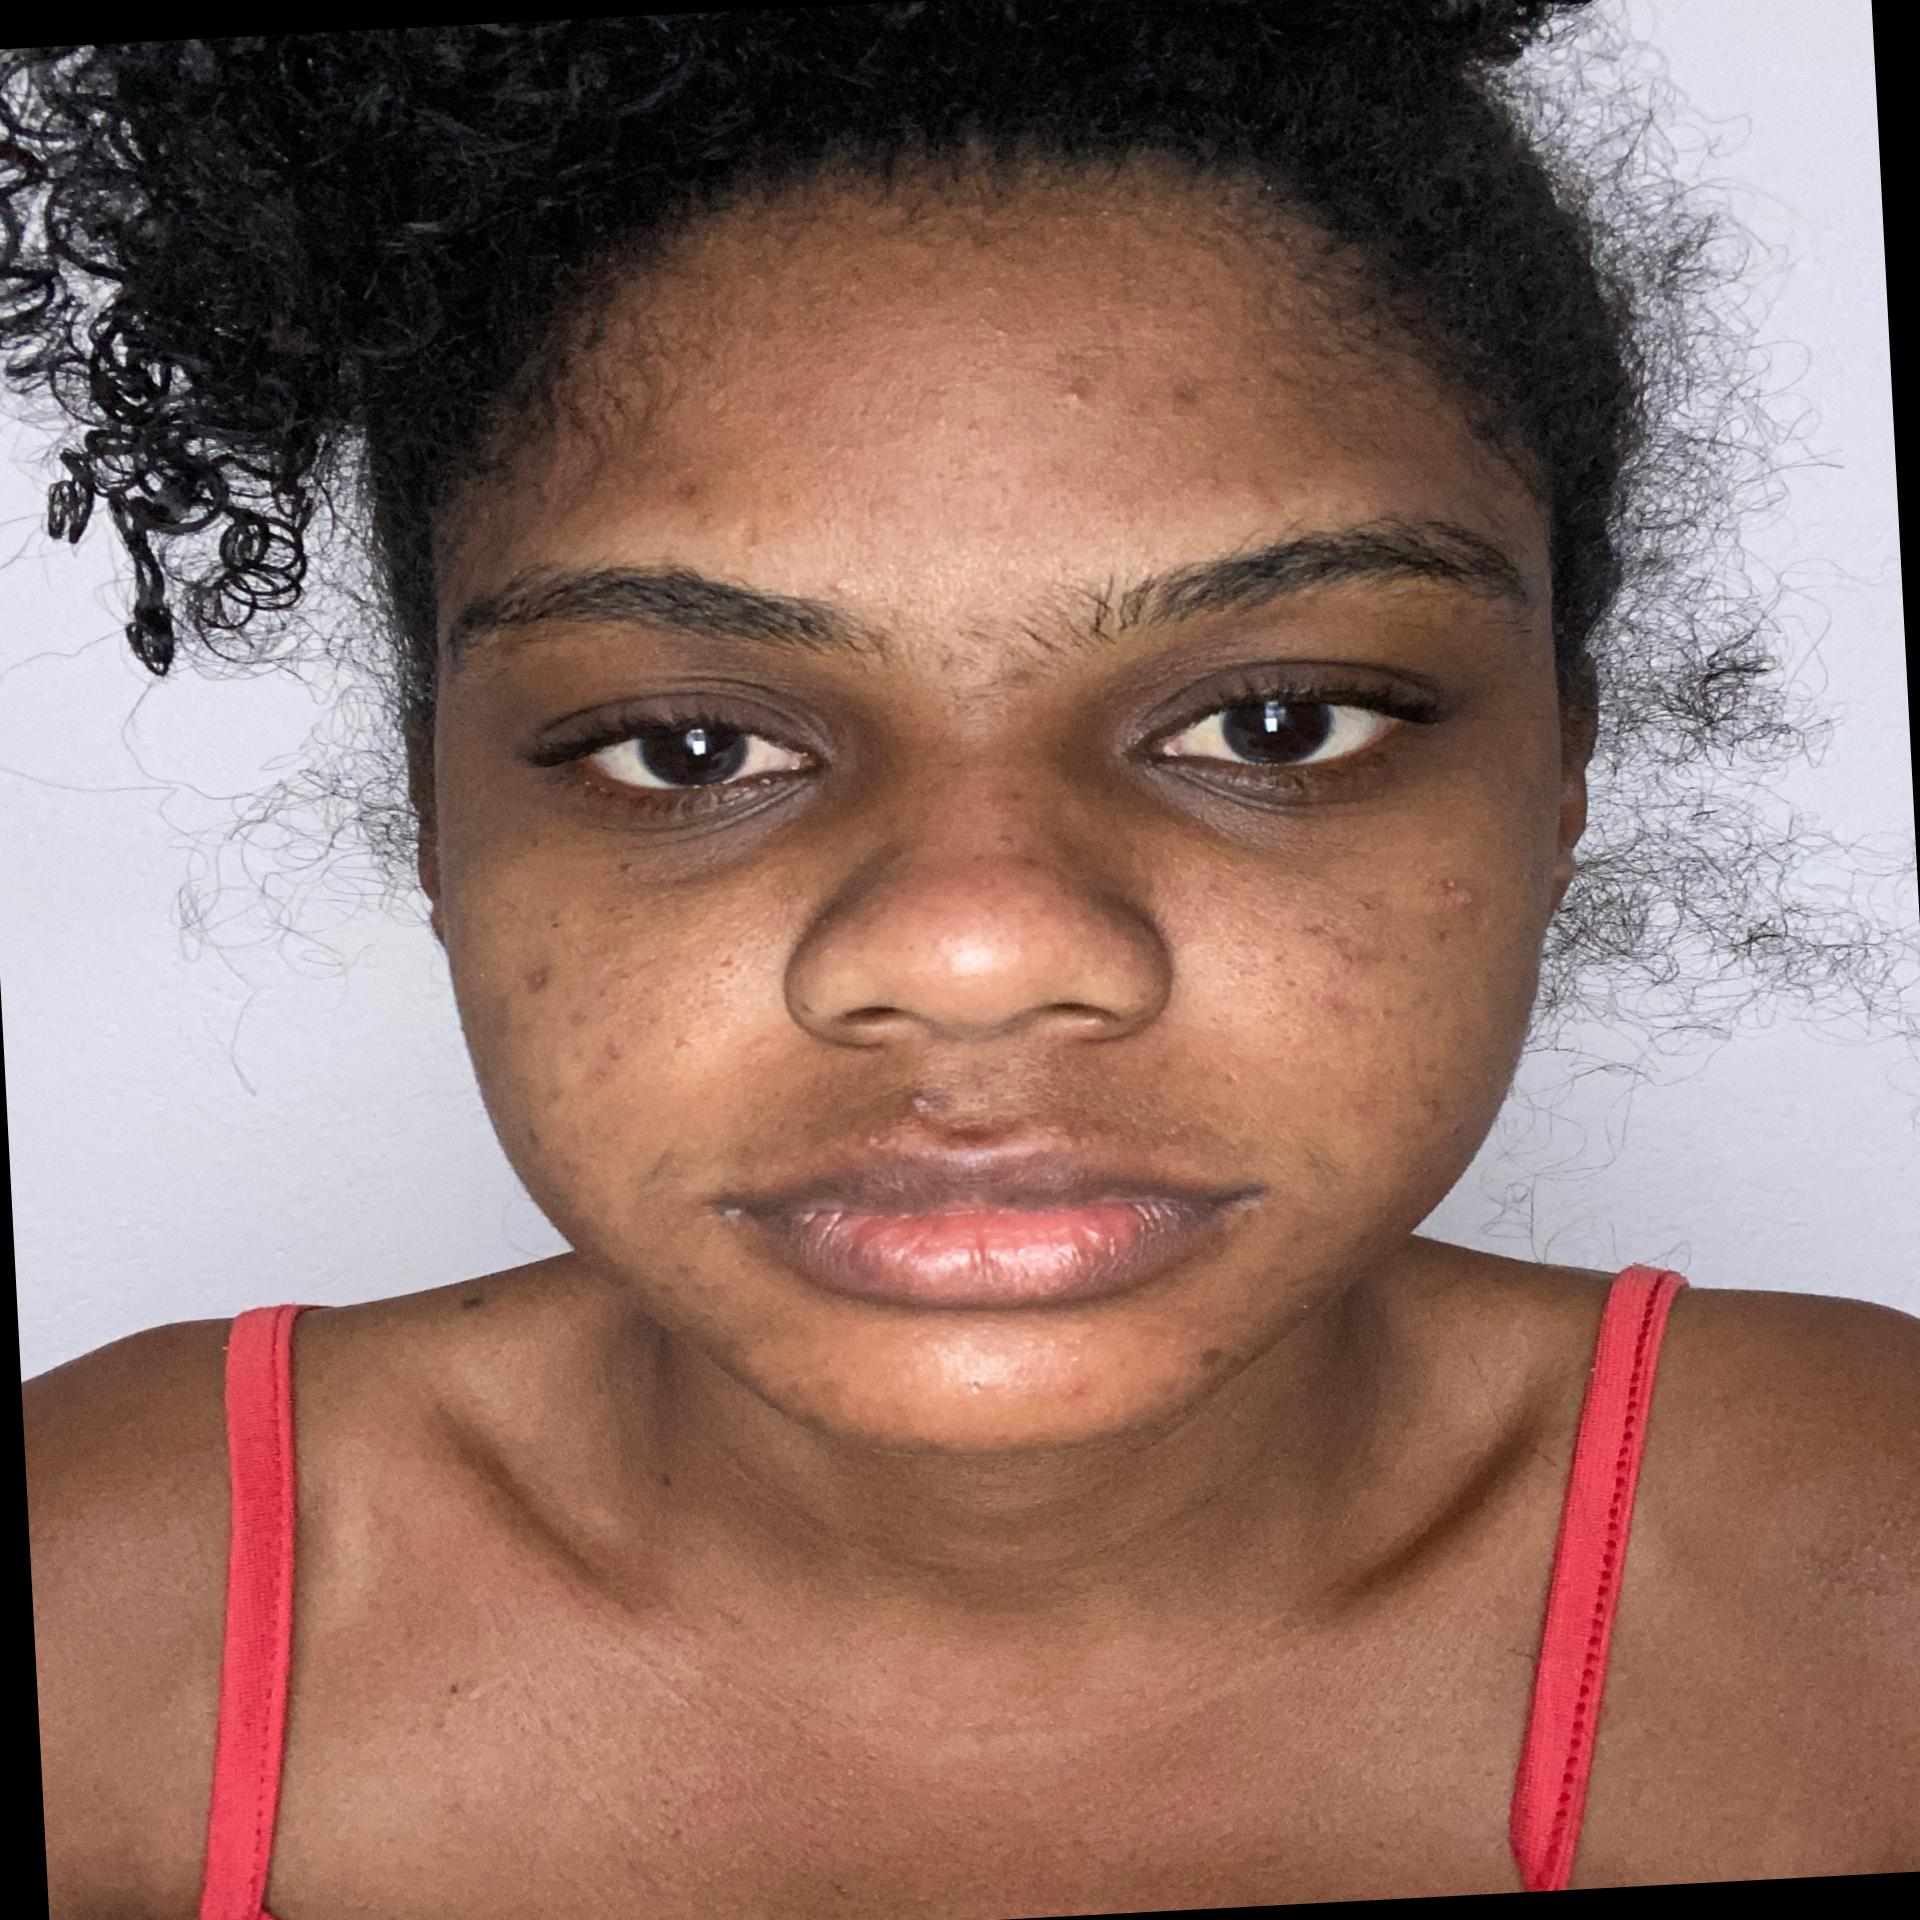Acne: (1294, 913, 1385, 969), (1415, 1090, 1468, 1141), (939, 1113, 1013, 1148), (779, 1370, 855, 1401), (1245, 475, 1294, 515), (1429, 869, 1475, 911), (1162, 380, 1213, 411), (666, 475, 717, 506), (515, 962, 557, 999), (1349, 884, 1396, 916), (1057, 373, 1094, 408), (738, 515, 767, 559), (897, 1087, 941, 1115), (1189, 1342, 1233, 1370), (598, 1030, 629, 1065), (519, 1120, 552, 1152), (1062, 1377, 1097, 1407), (1319, 988, 1356, 1016), (1006, 663, 1043, 689), (1190, 468, 1225, 492), (1424, 925, 1458, 949), (826, 575, 858, 598), (956, 417, 993, 436), (1020, 851, 1046, 876), (1002, 782, 1027, 809), (563, 1009, 591, 1032), (985, 320, 1013, 341), (964, 1371, 993, 1391), (990, 826, 1018, 846), (679, 1257, 703, 1275), (932, 410, 953, 429), (1266, 951, 1289, 967), (1280, 976, 1306, 988)
Dark Circles: (1065, 740, 1480, 865), (549, 754, 898, 893)
Englarged Pores: (652, 925, 777, 1043), (1224, 930, 1322, 1037)
